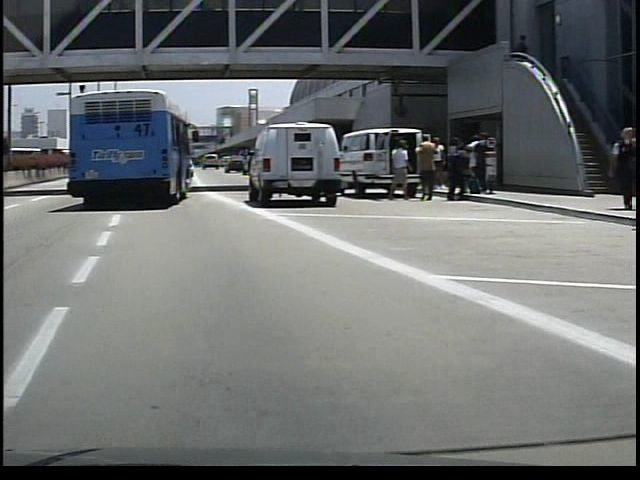person: (408, 131, 434, 202), (383, 133, 407, 199)
